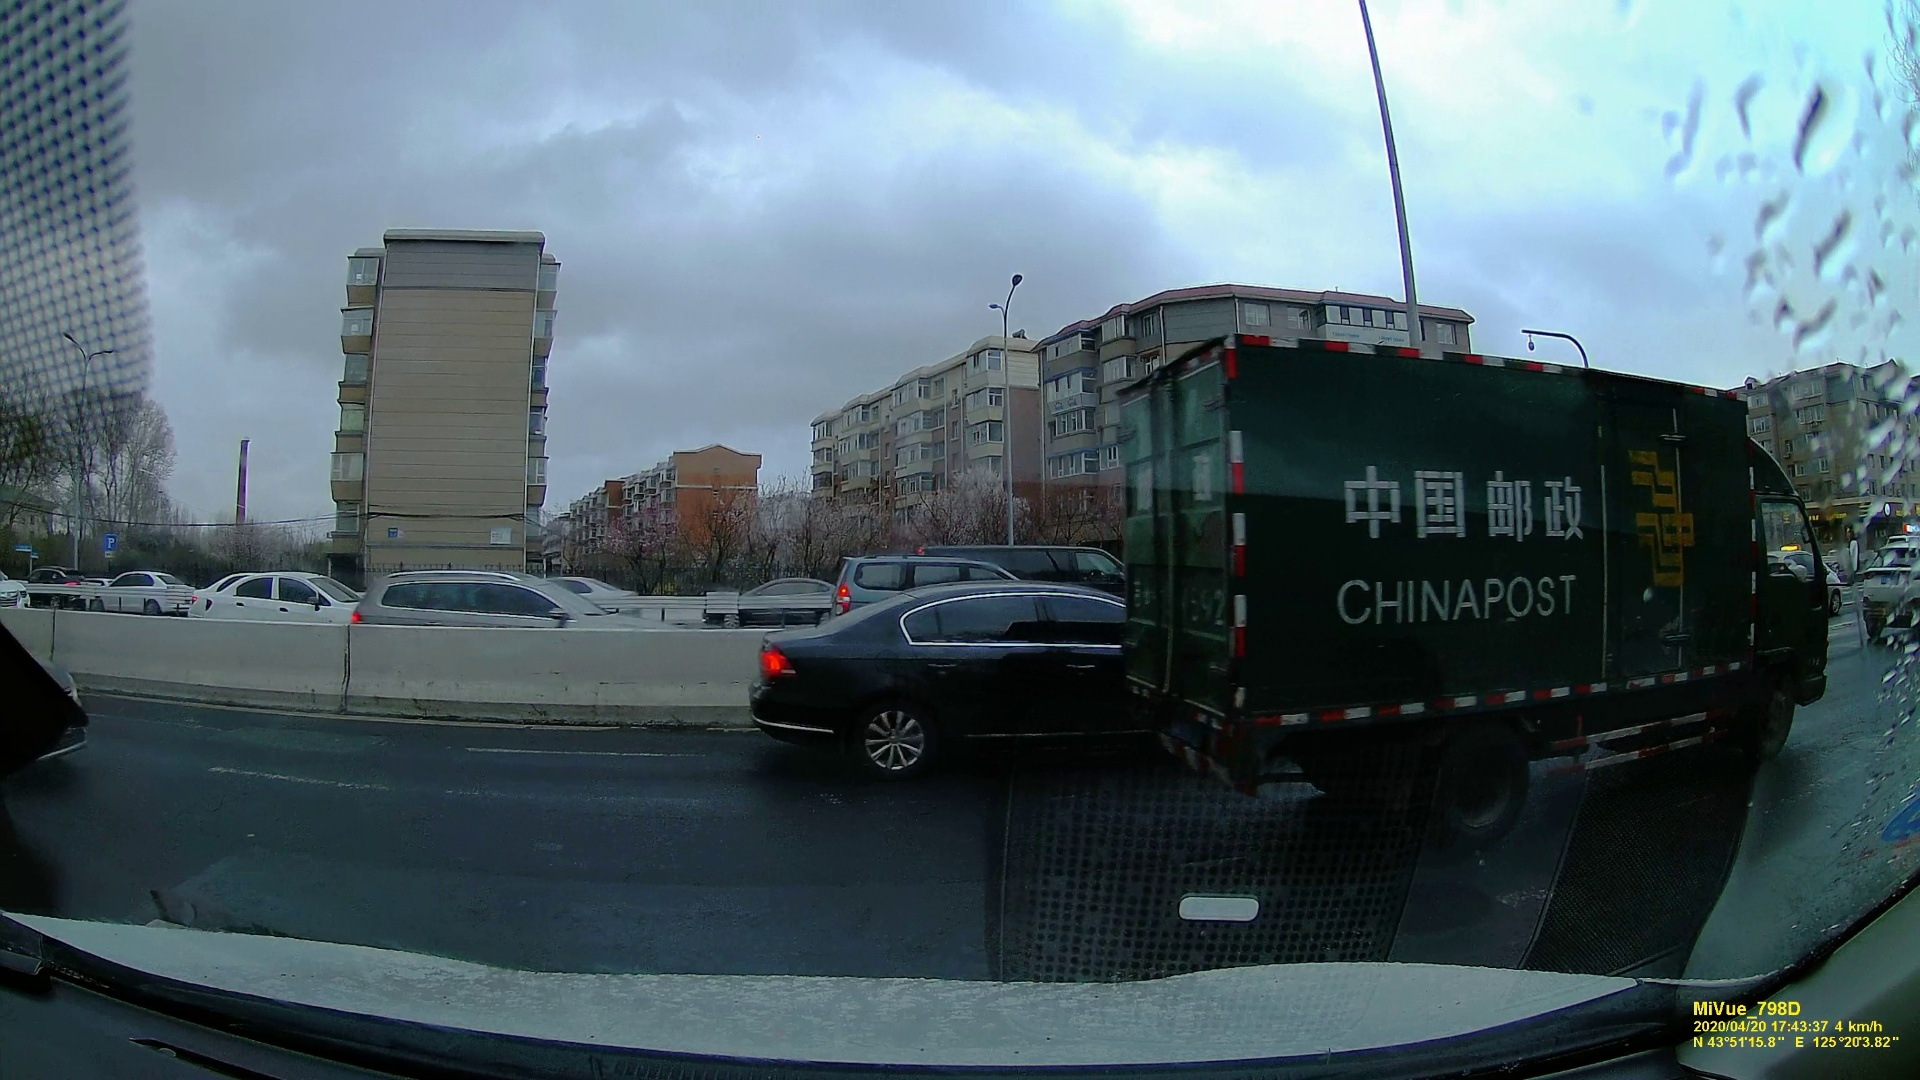truck: (1133, 353, 1838, 793)
vehicle: (754, 580, 1130, 774), (363, 566, 649, 632), (828, 554, 1014, 626), (193, 568, 353, 626), (694, 574, 828, 626), (76, 566, 190, 617)
